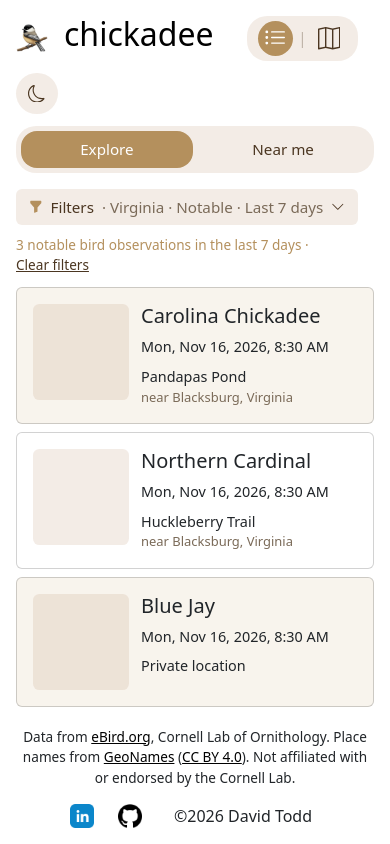
Explore page › folds the filters behind a Filters button on phones, summarising what's active
Click the button "Filters Virginia · Notable · Last 7 days".
click(187, 207)  # box [16,189,358,225]
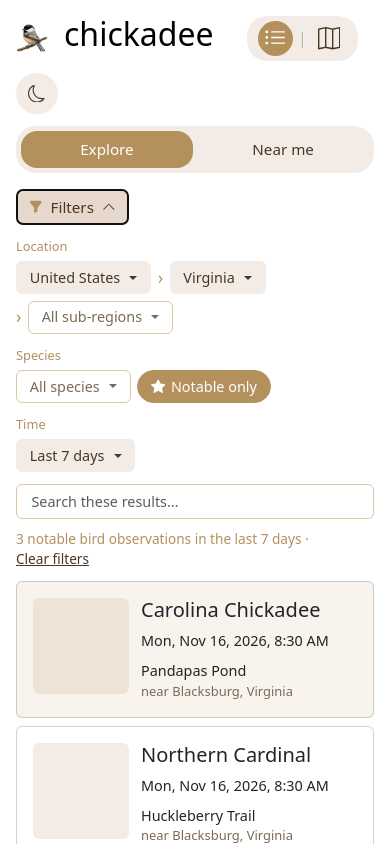
Check: the button "Filters" does not show "Virginia", box [16,189,128,225]
Check: the button "Filters" is expanded, box [16,189,128,225]
